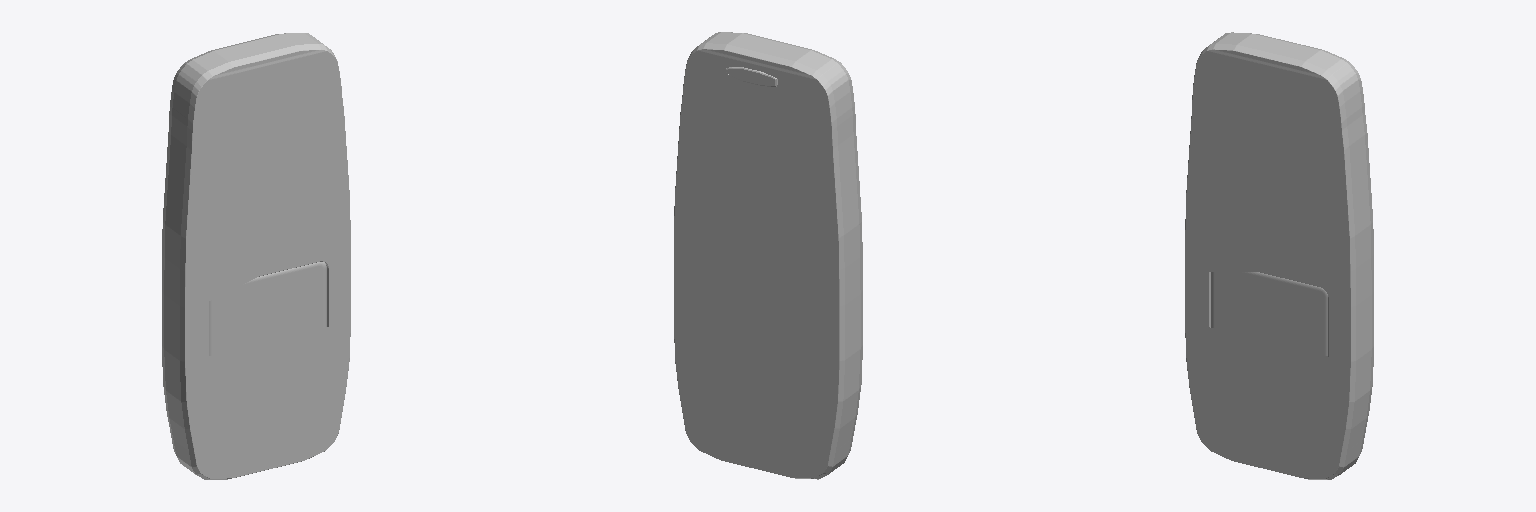
File: nokia.obj
The picture shows the model from 3 angles: view 1: azimuth 30°, elevation 25°; view 2: azimuth 150°, elevation 25°; view 3: azimuth 330°, elevation 25°; orthographic projection.
Parts seen in each view (by area): view 1: Cube.001; view 2: Cube.001; view 3: Cube.001.
Boxes of the visible parts, <box> form: Cube.001: <box>162,33,350,479</box>; Cube.001: <box>674,32,862,479</box>; Cube.001: <box>1185,32,1373,479</box>.
Size of the model in its own units: 182 by 429 by 45.11.